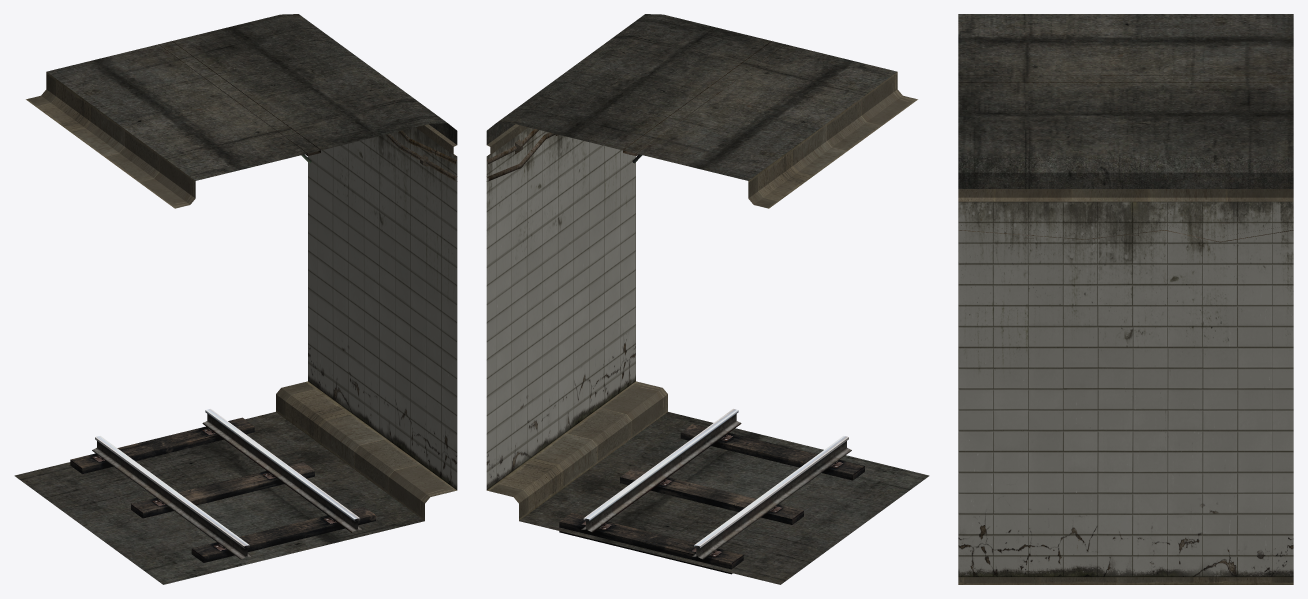
File: TunnelSideB.fbx
The picture shows the model from 3 angles, left to right: view 1: azimuth 30°, elevation 25°; view 2: azimuth 150°, elevation 25°; view 3: azimuth 270°, elevation 25°; orthographic projection. The views are drawn at different scales.
Parts seen in each view (by area): view 1: TunnelSideB; view 2: TunnelSideB; view 3: TunnelSideB.
Boxes of the visible parts, x1,y1,x2,y2 form: TunnelSideB: (14, 14, 457, 584); TunnelSideB: (486, 14, 929, 584); TunnelSideB: (958, 14, 1293, 584).
Size of the model in its own units: 428 by 557 by 375.
